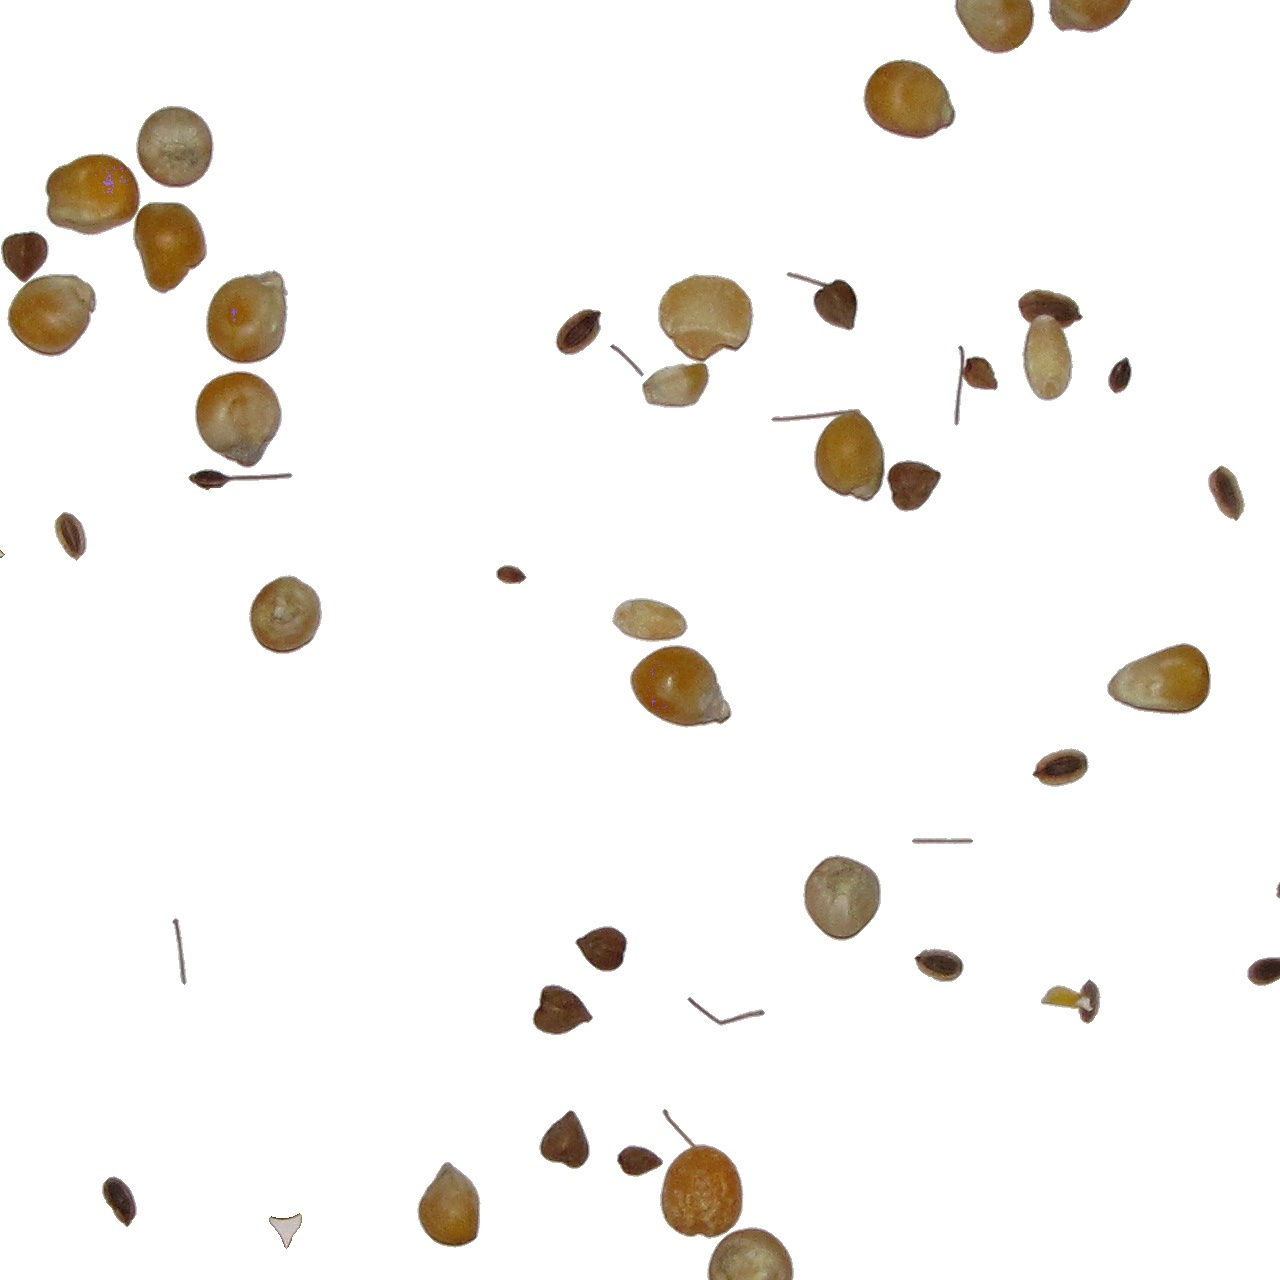buckwheat: (785, 271, 859, 332), (953, 343, 999, 427), (641, 361, 712, 409), (531, 983, 594, 1036), (538, 1109, 591, 1170), (1, 230, 50, 284), (574, 925, 629, 973), (554, 308, 602, 356), (1207, 464, 1246, 522), (101, 1175, 138, 1228), (268, 1212, 302, 1250), (171, 917, 188, 986), (1107, 356, 1133, 395)
dill: (53, 511, 88, 561), (495, 564, 527, 585), (911, 837, 974, 845)
mais: (658, 273, 755, 365), (629, 644, 733, 729), (659, 1139, 745, 1240), (195, 370, 282, 469), (45, 152, 142, 237), (205, 268, 290, 365), (6, 273, 98, 358), (1107, 642, 1212, 716), (862, 57, 956, 139), (809, 408, 886, 502), (132, 200, 207, 295), (802, 855, 881, 942), (135, 105, 215, 189), (248, 574, 324, 655), (416, 1160, 482, 1250), (706, 1226, 795, 1280), (954, 1, 1041, 55), (1047, 1, 1133, 33)
other: (1017, 319, 1068, 402), (611, 597, 689, 644), (885, 459, 942, 513), (1040, 978, 1102, 1024), (188, 468, 294, 491), (686, 996, 765, 1027), (1032, 747, 1090, 788), (611, 1144, 663, 1182), (915, 947, 968, 983), (610, 343, 645, 377), (1246, 956, 1280, 987), (1275, 855, 1280, 900)
